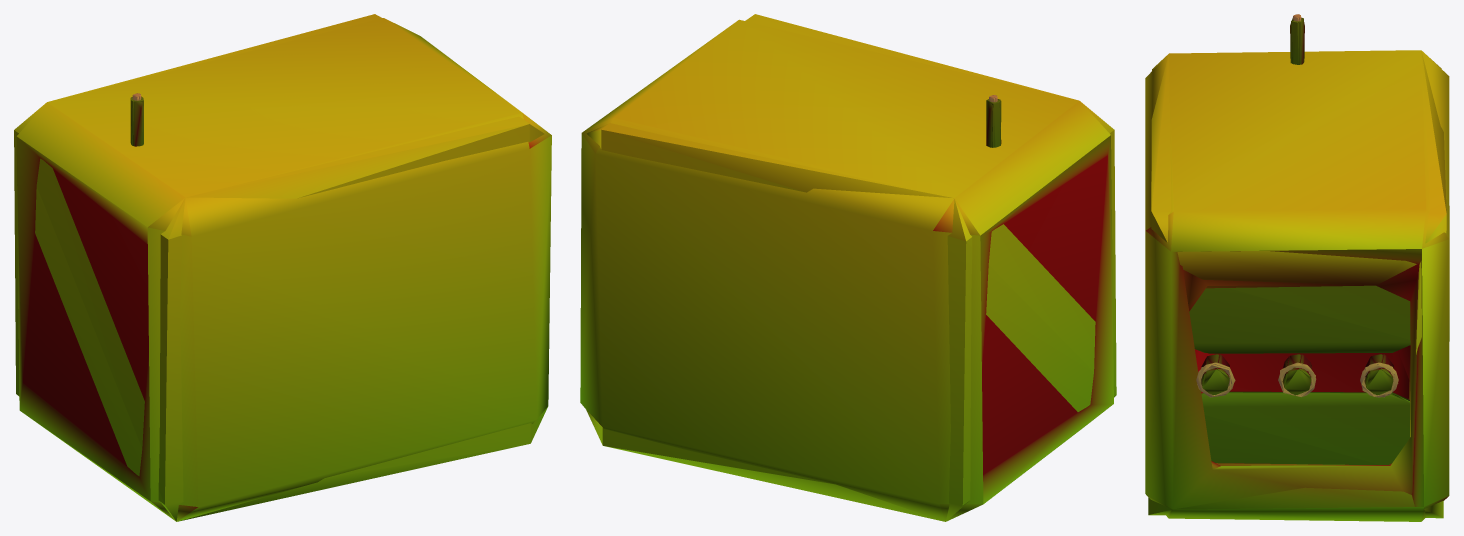
Rendered from RCLModule_arachnid_hexapod_pulsar_magnetic_shield_sponsons_LODs.fbx.
The picture shows the model from 3 angles, left to right: view 1: azimuth 30°, elevation 25°; view 2: azimuth 150°, elevation 25°; view 3: azimuth 270°, elevation 25°; orthographic projection. The views are drawn at different scales.
Visible parts, largest first — view 1: LOD1_RCLModule_arachnid_hexapod_pulsar_magnetic_shield_spons (×2), LOD2_RCLModule_arachnid_hexapod_pulsar_magnetic_shield_spons; view 2: LOD1_RCLModule_arachnid_hexapod_pulsar_magnetic_shield_spons (×2), LOD2_RCLModule_arachnid_hexapod_pulsar_magnetic_shield_spons; view 3: LOD1_RCLModule_arachnid_hexapod_pulsar_magnetic_shield_spons (×3), LOD2_RCLModule_arachnid_hexapod_pulsar_magnetic_shield_spons (×3).
Boxes of the visible parts, x1,y1,x2,y2 form: LOD1_RCLModule_arachnid_hexapod_pulsar_magnetic_shield_spons (×2): (16,18,551,521); LOD2_RCLModule_arachnid_hexapod_pulsar_magnetic_shield_spons: (14,14,547,521); LOD1_RCLModule_arachnid_hexapod_pulsar_magnetic_shield_spons (×2): (580,19,1113,521); LOD2_RCLModule_arachnid_hexapod_pulsar_magnetic_shield_spons: (586,14,1116,521); LOD1_RCLModule_arachnid_hexapod_pulsar_magnetic_shield_spons (×3): (1145,14,1449,521); LOD2_RCLModule_arachnid_hexapod_pulsar_magnetic_shield_spons (×3): (1148,14,1446,518).
Bounding box in the file's own units: 48.32 × 42.31 × 32.67.
